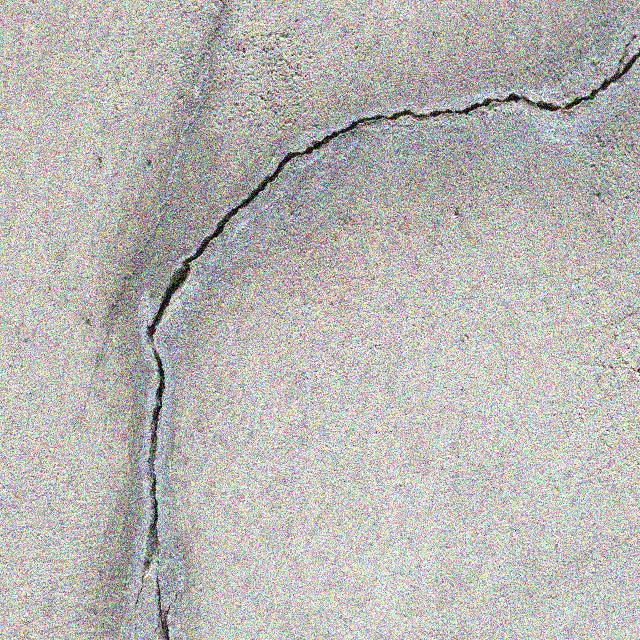SurfaceCrack: (84, 2, 626, 636)
